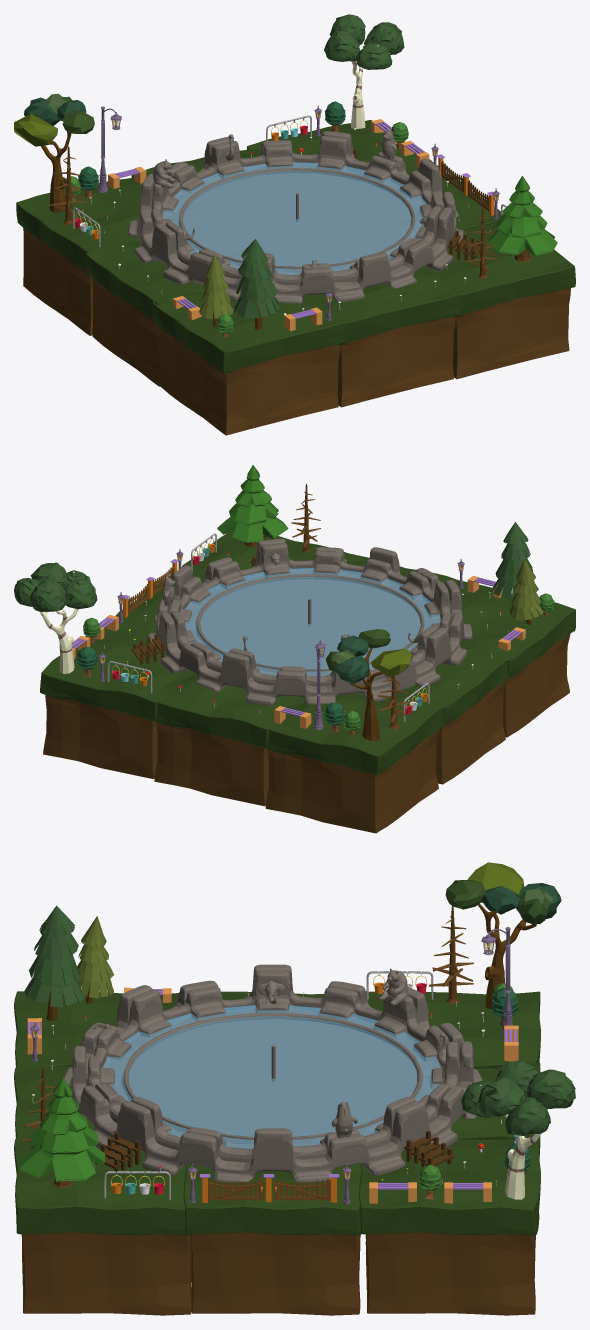
Rendered from tile_pool.min.gltf.
3 views of the same model, one above another, from view 1: azimuth 30°, elevation 25°; view 2: azimuth 150°, elevation 25°; view 3: azimuth 270°, elevation 25° (orthographic). The views are drawn at different scales.
Parts seen in each view (by area): view 1: CENTERED.029, Circle.015, Cube.027, tree trunk.003, Cylinder.039, christmas tree.000, christmas tree.001, Cylinder.042, Cylinder.040, light pole single.001, platform.003, Sphere.008; view 2: CENTERED.029, Circle.015, Cube.027, tree trunk.003, Cylinder.039, christmas tree.000, christmas tree.001, platform.002, Cylinder.040, Cylinder.042, Sphere.008, light pole single.001; view 3: CENTERED.029, Circle.015, Cube.027, tree trunk.003, Cylinder.039, christmas tree.000, christmas tree.001, Cylinder.042, platform.002, platform.003, 10552_FenceGate_v4-L2.009, 10552_FenceGate_v4-L2.010 (+5 smaller).
Boxes of the visible parts, bbox=[...] form: CENTERED.029: bbox=[16, 120, 575, 435]; Circle.015: bbox=[128, 129, 463, 303]; Cube.027: bbox=[324, 14, 404, 128]; tree trunk.003: bbox=[14, 93, 94, 212]; Cylinder.039: bbox=[488, 176, 557, 255]; christmas tree.000: bbox=[234, 239, 281, 330]; christmas tree.001: bbox=[199, 254, 233, 326]; Cylinder.042: bbox=[49, 146, 86, 224]; Cylinder.040: bbox=[465, 207, 498, 278]; light pole single.001: bbox=[98, 106, 121, 192]; platform.003: bbox=[447, 230, 480, 260]; Sphere.008: bbox=[266, 115, 311, 141]; CENTERED.029: bbox=[40, 531, 575, 833]; Circle.015: bbox=[148, 538, 472, 705]; Cube.027: bbox=[14, 562, 97, 673]; tree trunk.003: bbox=[325, 629, 413, 740]; Cylinder.039: bbox=[217, 465, 288, 542]; christmas tree.000: bbox=[492, 522, 538, 600]; christmas tree.001: bbox=[509, 559, 543, 624]; platform.002: bbox=[131, 634, 166, 664]; Cylinder.040: bbox=[291, 484, 320, 552]; Cylinder.042: bbox=[378, 675, 409, 729]; Sphere.008: bbox=[107, 661, 152, 692]; light pole single.001: bbox=[314, 640, 325, 730]; CENTERED.029: bbox=[14, 991, 540, 1315]; Circle.015: bbox=[64, 964, 482, 1182]; Cube.027: bbox=[460, 1060, 575, 1199]; tree trunk.003: bbox=[445, 862, 561, 1008]; Cylinder.039: bbox=[19, 1077, 105, 1181]; christmas tree.000: bbox=[24, 905, 83, 1020]; christmas tree.001: bbox=[77, 916, 113, 1003]; Cylinder.042: bbox=[429, 906, 473, 1003]; platform.002: bbox=[404, 1130, 455, 1166]; platform.003: bbox=[94, 1132, 142, 1172]; 10552_FenceGate_v4-L2.009: bbox=[273, 1179, 330, 1200]; 10552_FenceGate_v4-L2.010: bbox=[208, 1179, 264, 1200].
Bounding box in the file's own units: 3.45 × 1.56 × 3.34.
